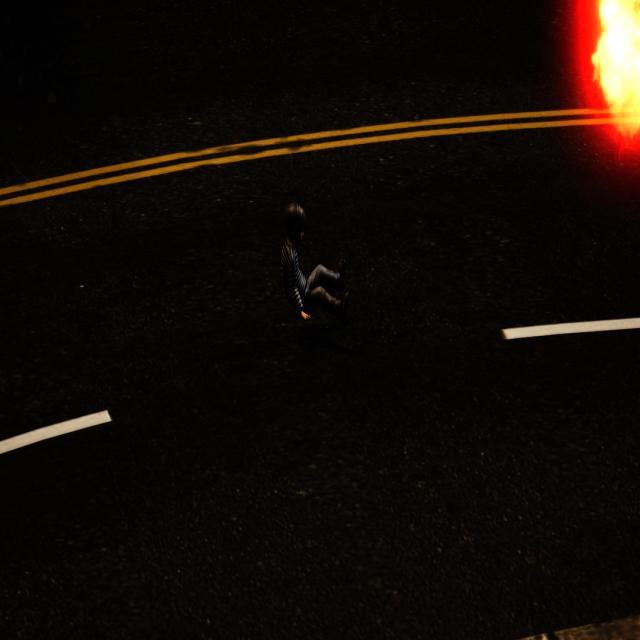Human: (276, 202, 358, 339)
